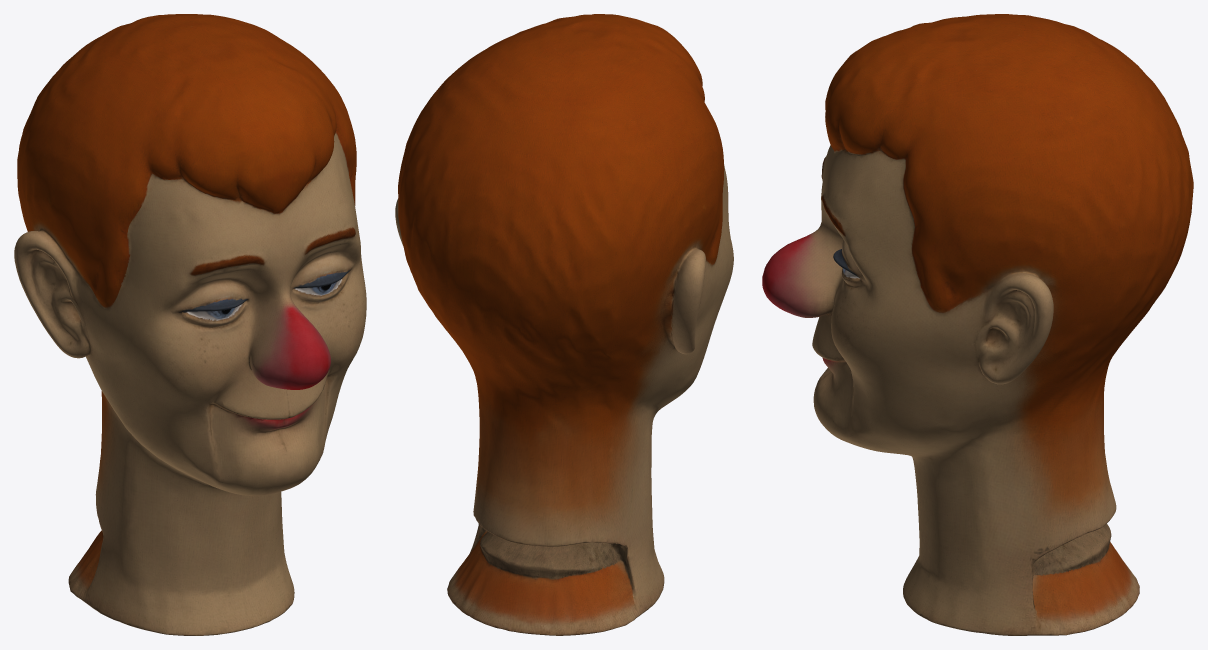
Rendered from marionete__s2026.glb.
The picture shows the model from 3 angles, left to right: view 1: azimuth 30°, elevation 25°; view 2: azimuth 150°, elevation 25°; view 3: azimuth 270°, elevation 25°; orthographic projection. The views are drawn at different scales.
Size of the model in its own units: 0.5921 by 0.9963 by 0.6953.
1 material, 1 textured.
